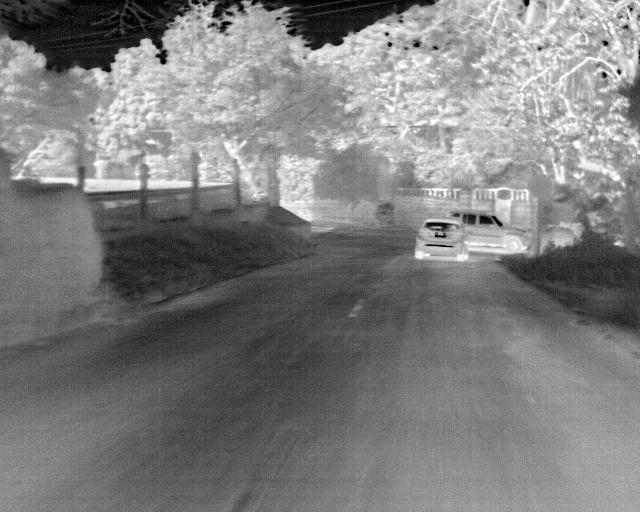car: (449, 208, 532, 254), (412, 218, 468, 262)
